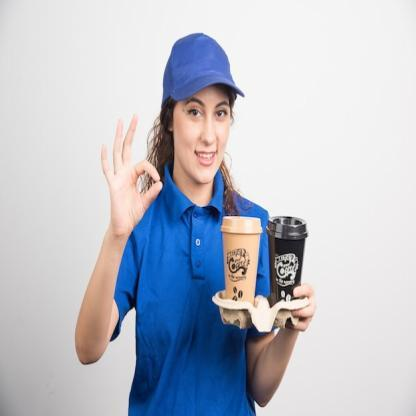ok: (97, 110, 164, 240)
